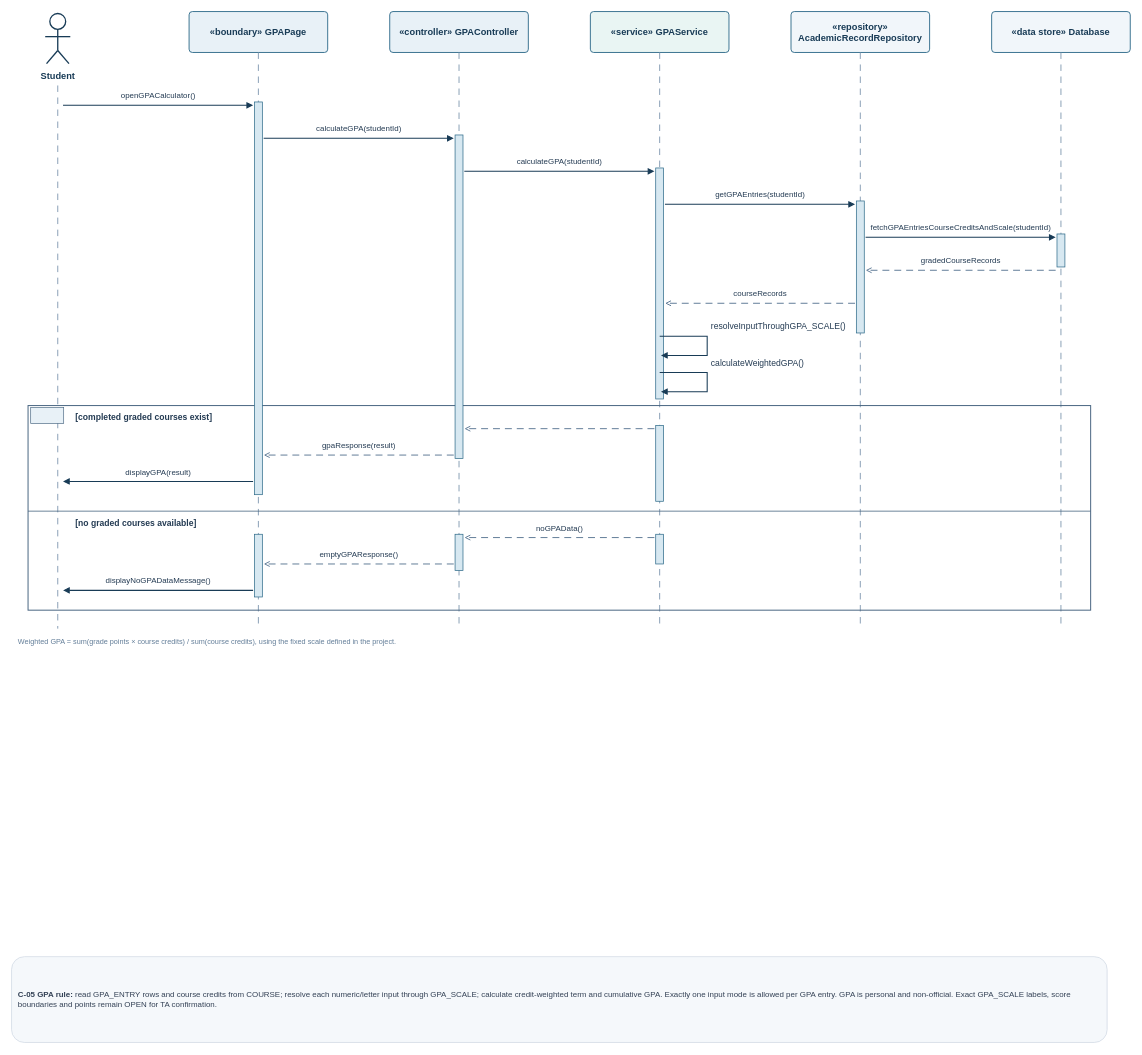
This 1142x1055 diagram has some shape labels left out. Here are the shapes that lost their labels. From the top down, the centre of each, then its label:
At point 47,415: "alt".
At point 559,419: "gpaResult(value, totalCredits)".
